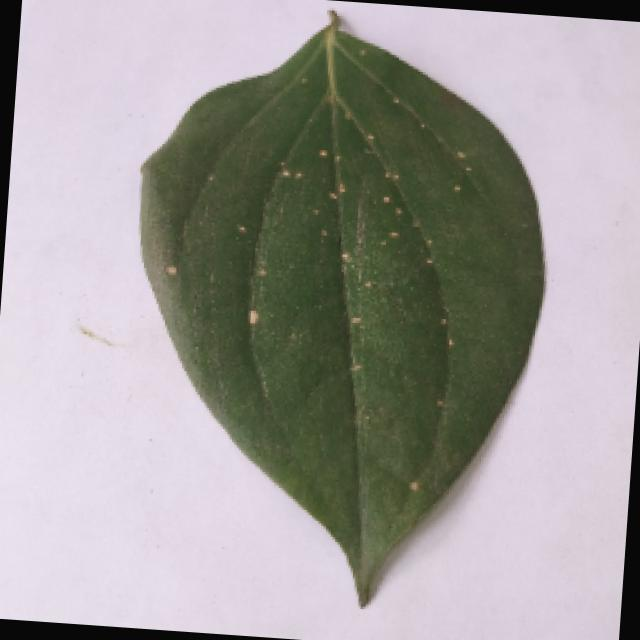pollu-disease: (116, 0, 566, 615)
